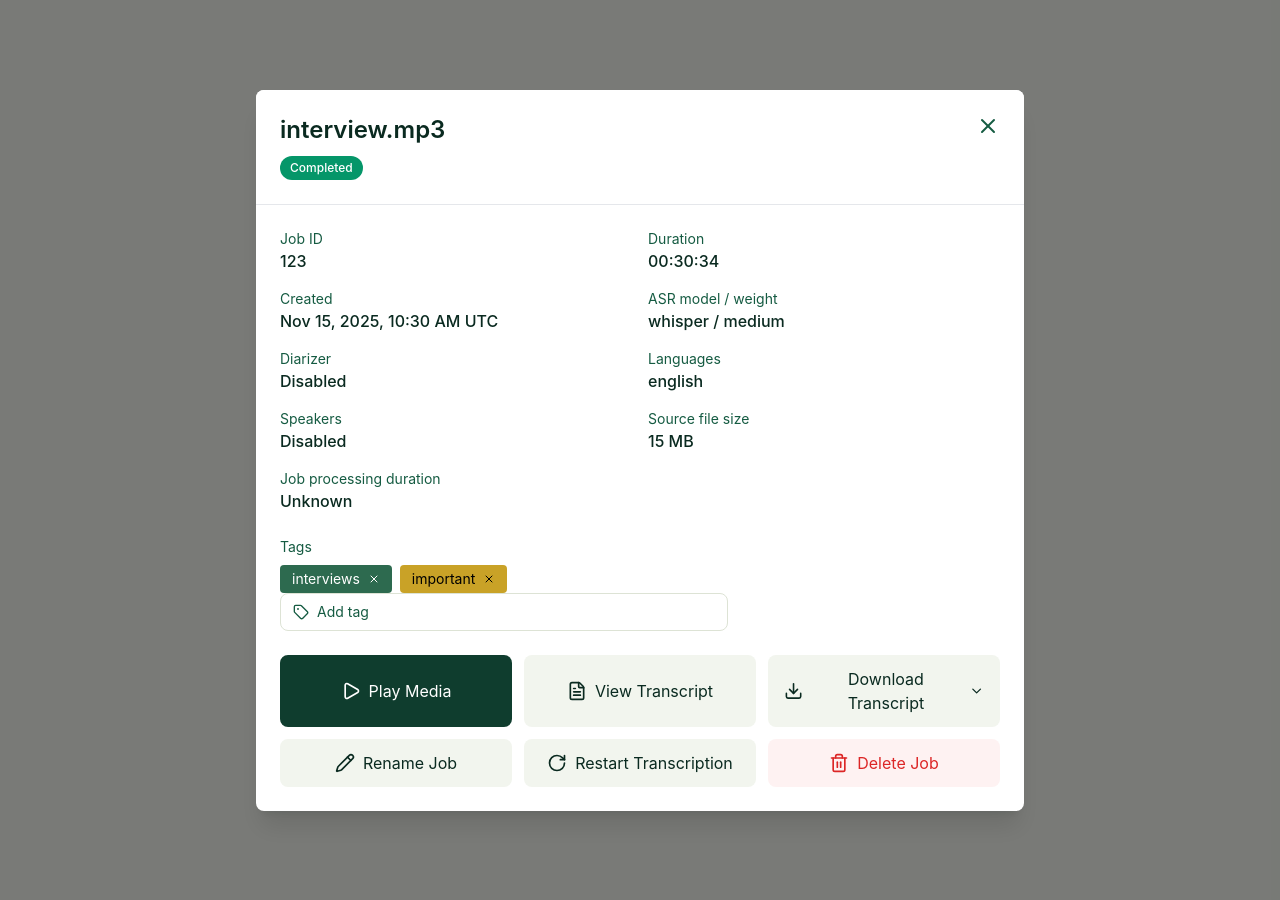
Test: JobDetailModal › shows delete confirmation when delete button is clicked
Click the button "Delete Job".
click(884, 762)  # box [768, 738, 1000, 786]
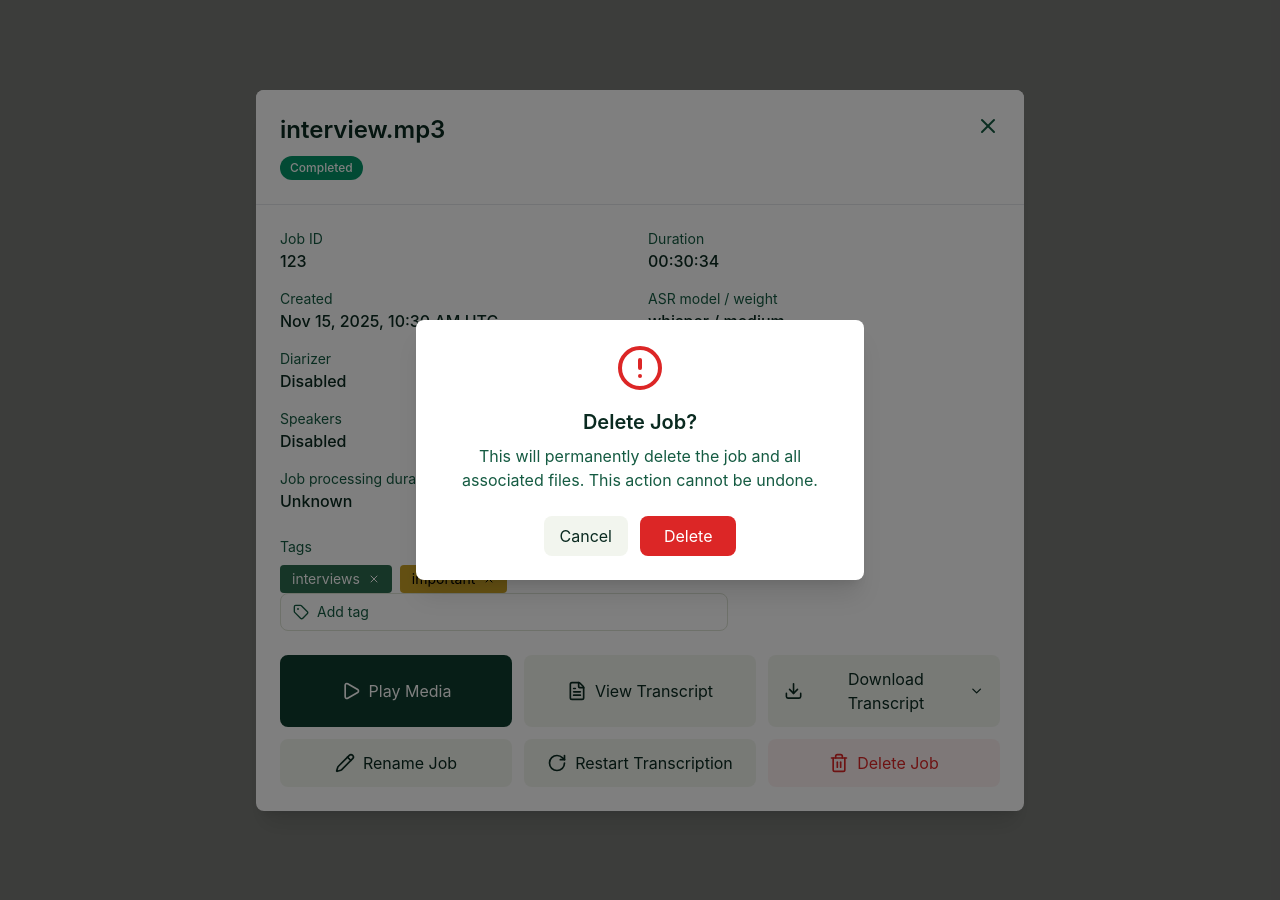
Check: the text "This will permanently delete" is shown, box [462, 446, 818, 490]
